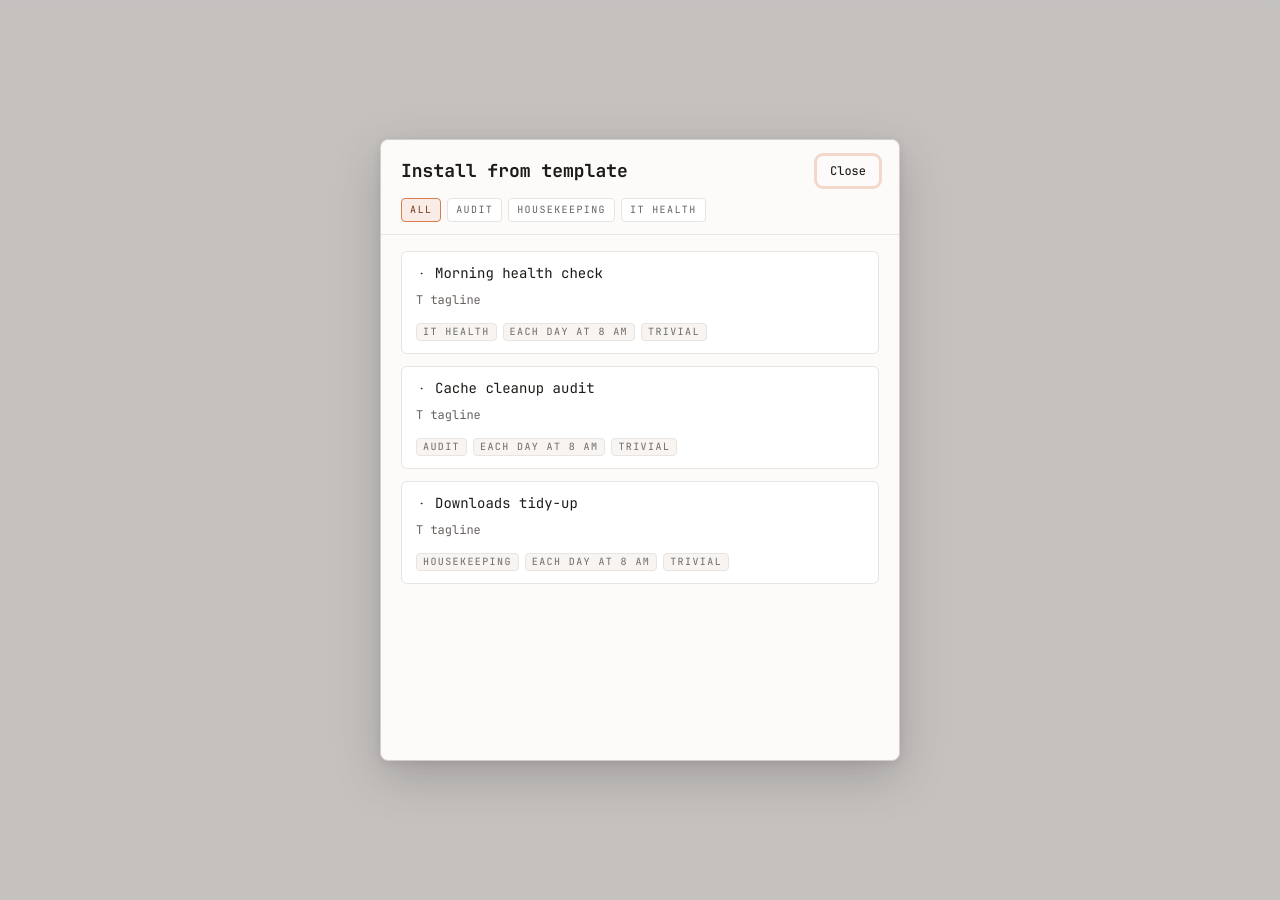
Test: TemplateGallery — category filtering › filters cards to the active category
Expected: the text "Morning health check" is shown, [435,264,603,284]
Click the button "Audit": {"x": 475, "y": 210} [447,198,502,222]
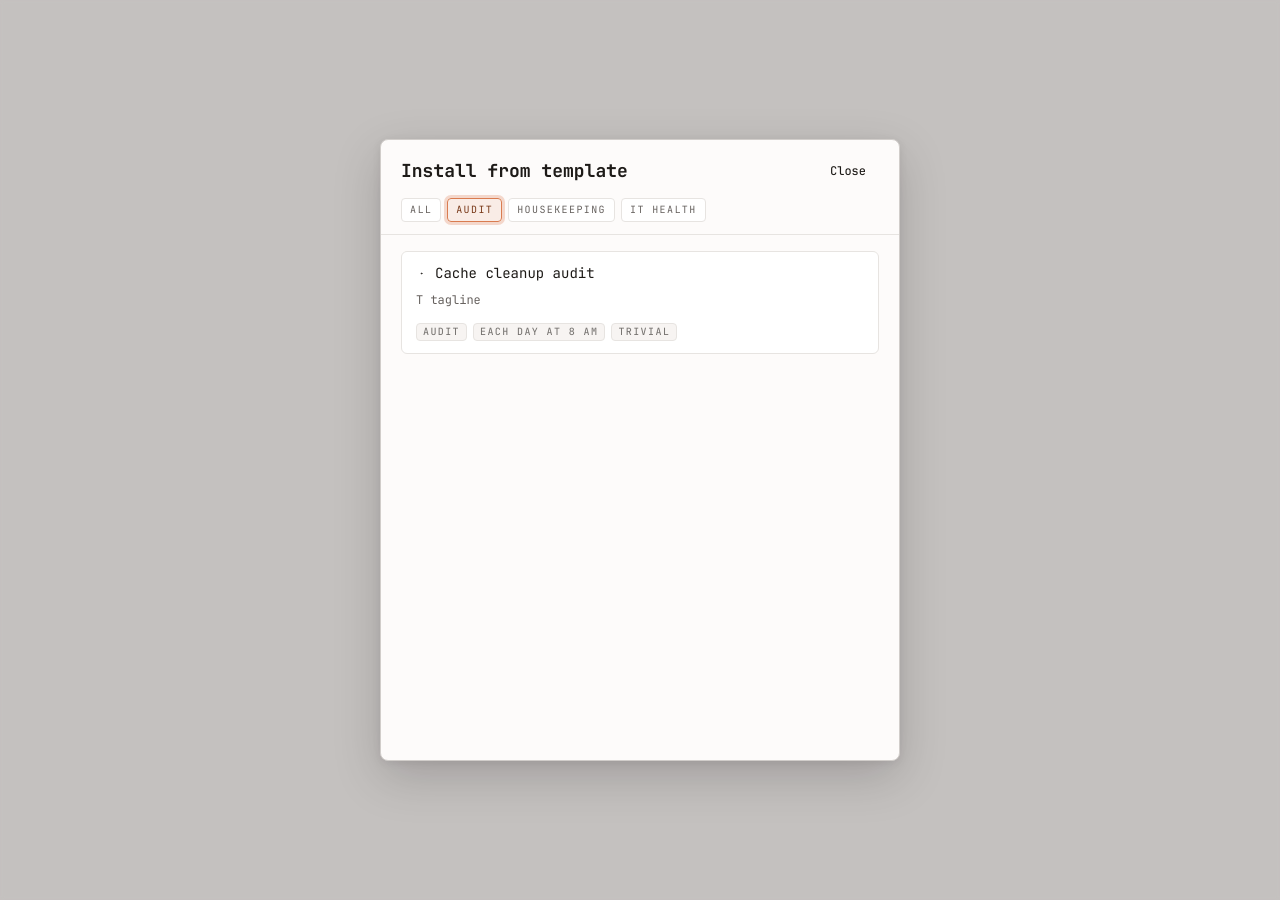
Expected: the text "Cache cleanup audit" is shown, [435,264,595,284]
Expected: the button "Morning health check" is gone
Expected: the button "Downloads tidy-up" is gone
